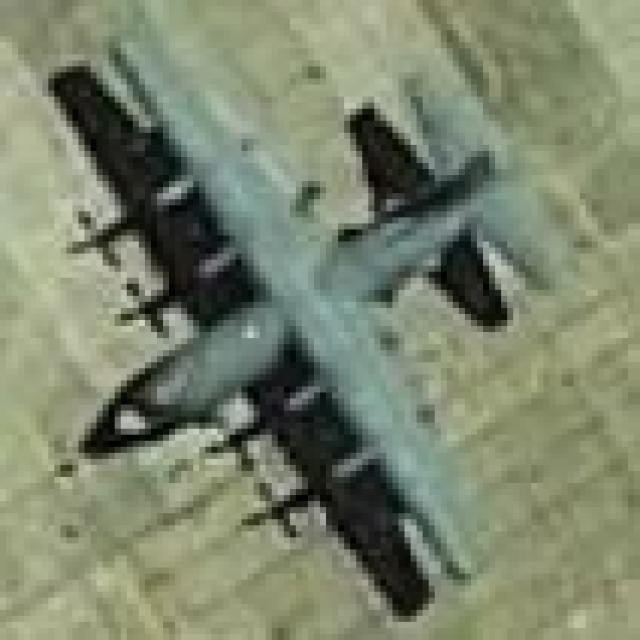C-130_TopDown: (47, 22, 571, 628)
